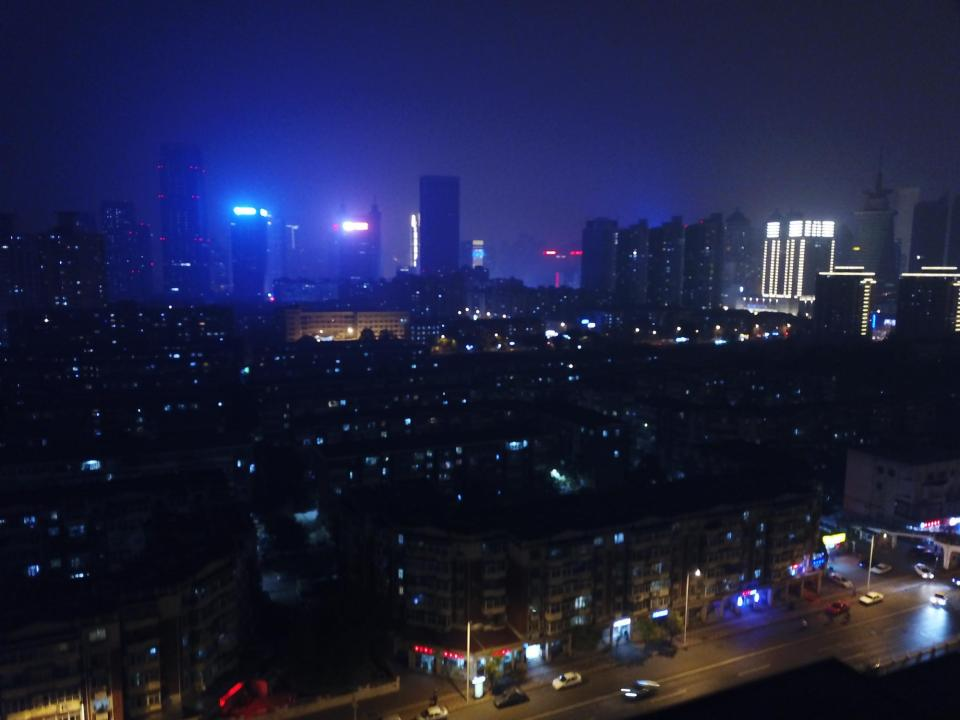car: (493, 685, 527, 708), (621, 680, 660, 700), (552, 672, 582, 690), (415, 704, 448, 720), (828, 572, 853, 589), (826, 599, 850, 616), (859, 591, 884, 604), (914, 563, 934, 579), (930, 591, 948, 607), (869, 563, 892, 575), (911, 550, 938, 560), (858, 558, 880, 568), (909, 545, 927, 555)
